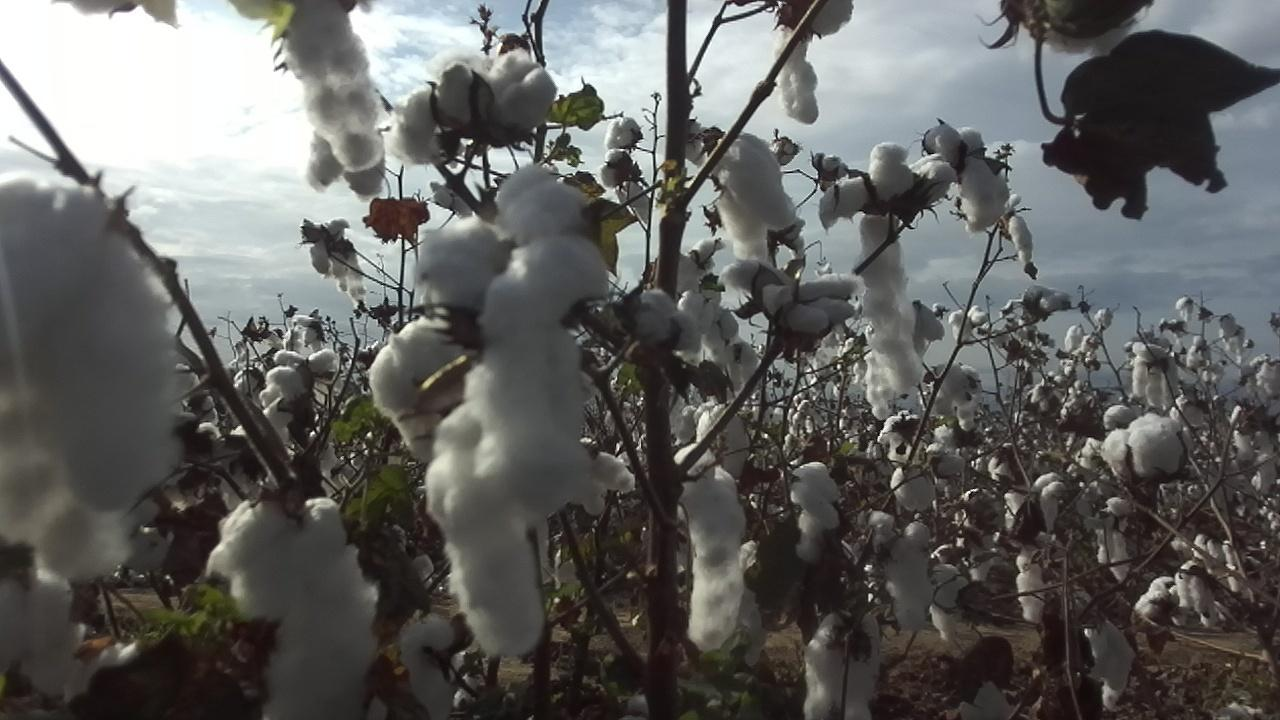cotton_ready: (0, 174, 189, 585), (419, 164, 612, 519), (205, 497, 379, 720), (820, 142, 955, 390), (423, 413, 545, 659), (224, 0, 384, 165), (672, 445, 746, 652), (0, 557, 95, 704), (370, 317, 468, 459), (431, 50, 559, 134), (725, 259, 860, 337), (712, 132, 798, 239), (779, 0, 849, 122), (927, 127, 1005, 233), (805, 617, 885, 720), (601, 289, 704, 355), (260, 345, 337, 429), (400, 610, 455, 720), (305, 125, 385, 200), (1101, 412, 1185, 482), (1044, 0, 1142, 60), (877, 525, 935, 626), (391, 86, 457, 165), (307, 217, 365, 302), (53, 0, 180, 35), (680, 287, 740, 361), (788, 462, 844, 530), (699, 404, 749, 474), (662, 240, 726, 286)
